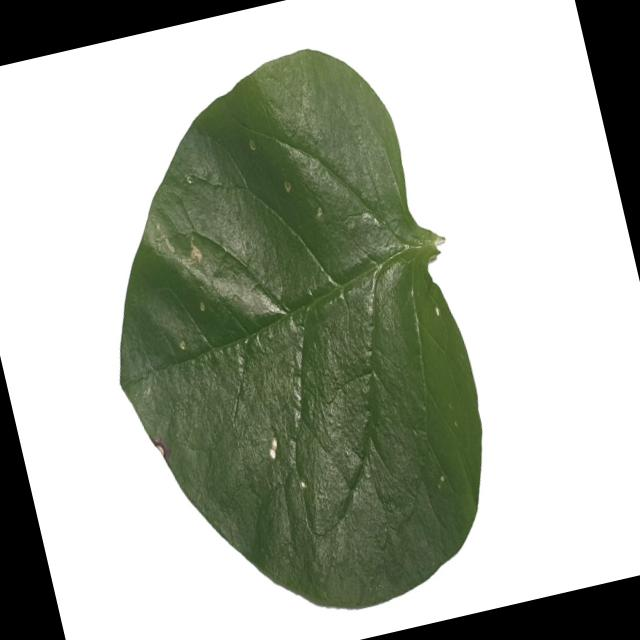Medicinal-Basale: (56, 24, 518, 640)
